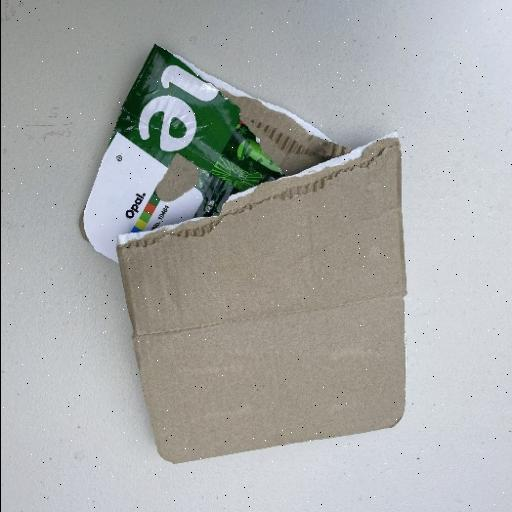Cardboard: (80, 43, 408, 465), (78, 42, 284, 264)
